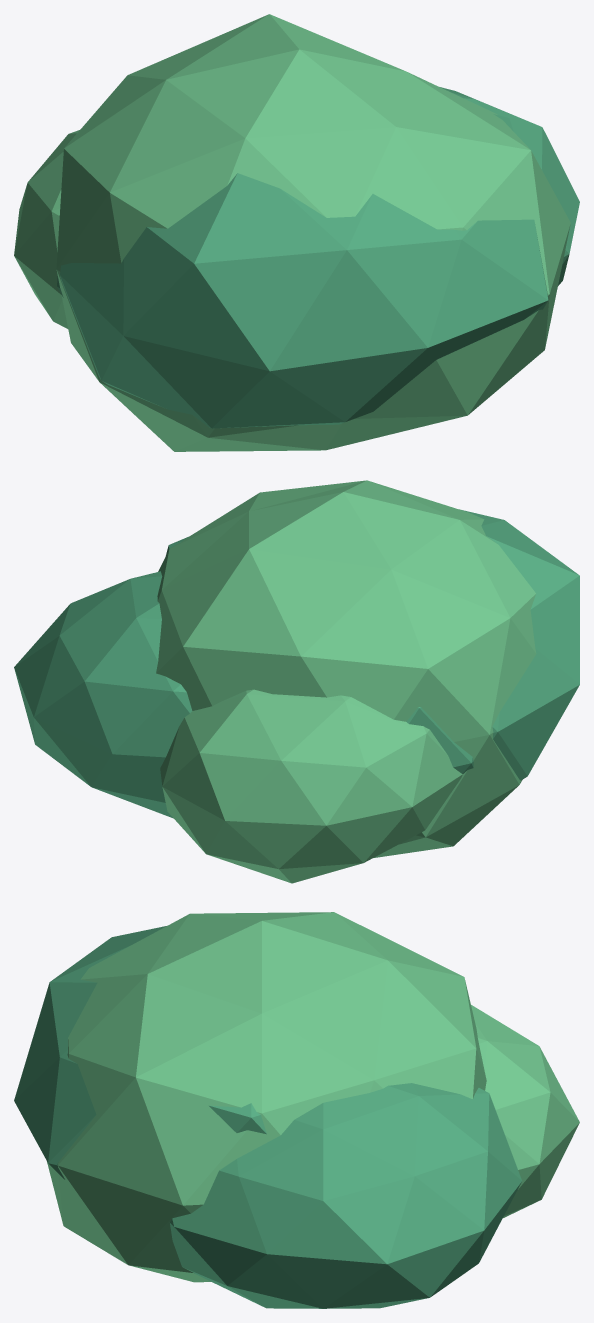
Rendered from Bush_B.glb.
3 renders of one model, top to bottom at view 1: azimuth 30°, elevation 25°; view 2: azimuth 150°, elevation 25°; view 3: azimuth 270°, elevation 25°, orthographic. The views are drawn at different scales.
Parts seen in each view (by area): view 1: Bush_B; view 2: Bush_B; view 3: Bush_B.
Boxes of the visible parts, x1,y1,x2,y2 form: Bush_B: (14,14,579,451); Bush_B: (14,480,579,883); Bush_B: (14,912,579,1308).
Bounding box in the file's own units: 1.93 × 1.33 × 1.94.
